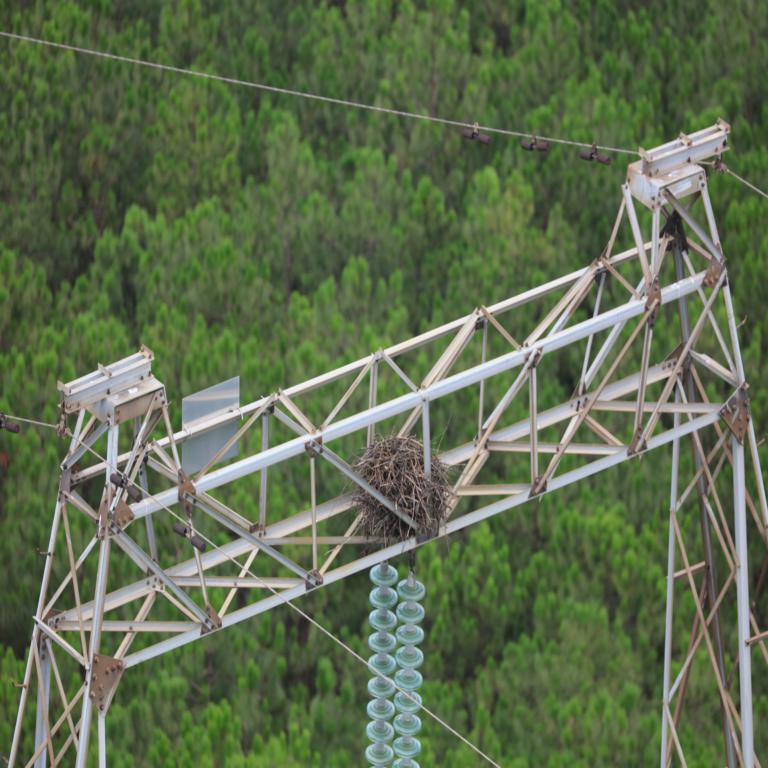nest: (356, 440, 447, 543)
